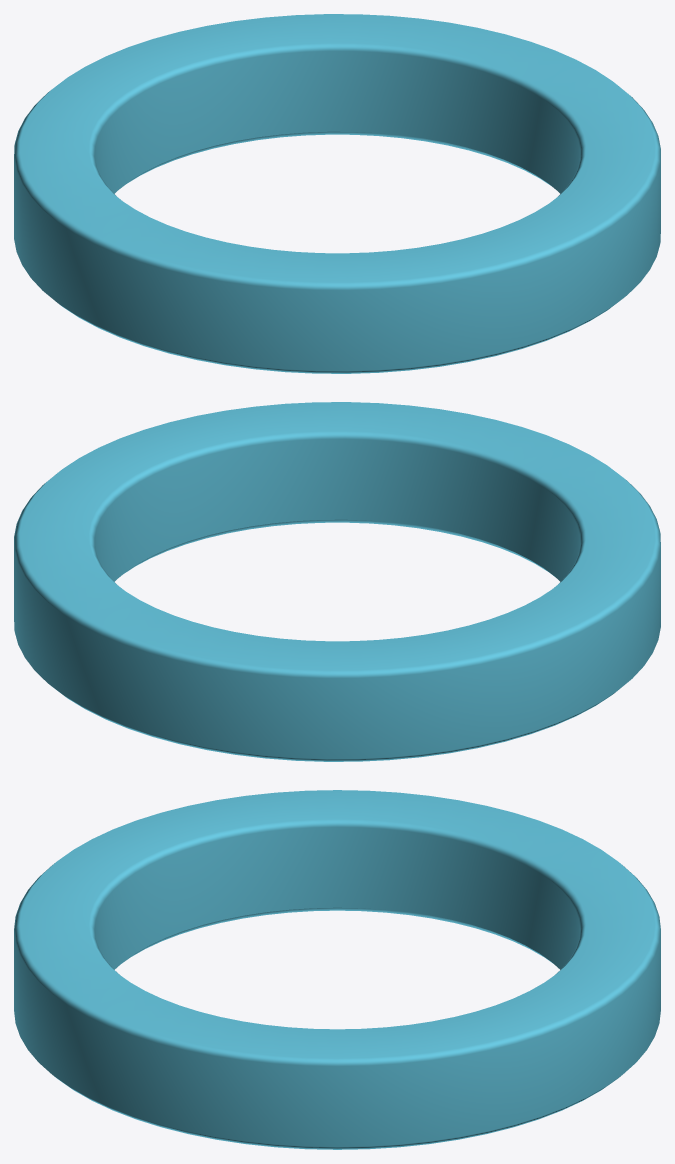
3 views of the same model, one above another, from view 1: azimuth 30°, elevation 25°; view 2: azimuth 150°, elevation 25°; view 3: azimuth 270°, elevation 25° (orthographic).
Parts seen in each view (by area): view 1: seal_body; view 2: seal_body; view 3: seal_body.
Boxes of the visible parts, x1,y1,x2,y2 form: seal_body: [14, 14, 660, 373]; seal_body: [14, 402, 660, 761]; seal_body: [14, 790, 660, 1149].
Size of the model in its own units: 0.0508 by 0.00793 by 0.0508.
